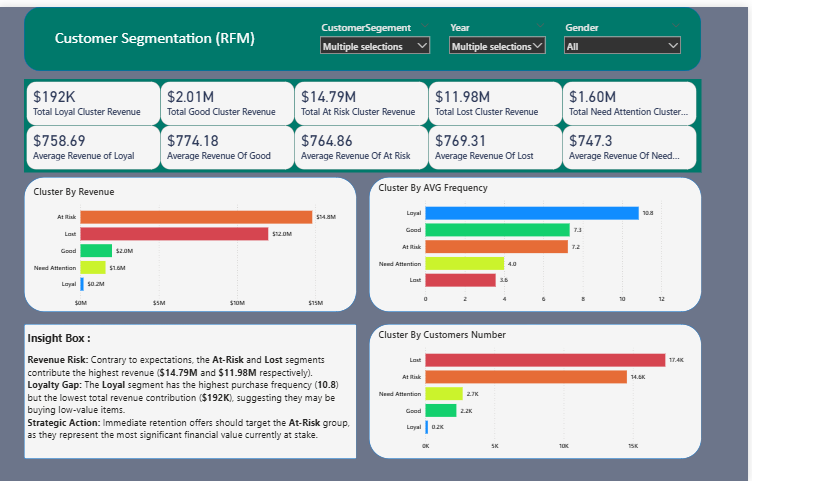

The dashboard page shown, as its layout file describes it:
{"tool":"powerbi","page":{"name":"RFM","canvas":[1500,950],"ordinal":1},"visuals":[{"type":"shape","box":[51.2,0,1354.3,128],"z":0},{"type":"slicer","fields":{"Values":["ecommerce_customer_data_large.Gender"]},"box":[1122,19.7,253.9,88.6],"z":1000},{"type":"slicer","fields":{"Values":["ecommerce_customer_data_large.Year"]},"box":[891.7,19.7,212.6,88.6],"z":2000},{"type":"slicer","fields":{"Values":["RFM.CustomerSegement"]},"box":[633.9,19.7,240.2,82.7],"z":3000},{"type":"textbox","box":[100.7,36.1,427.5,66.5],"z":4000},{"type":"cardVisual","fields":{"Data":["RFM.TotalRevenue_Cluster_Loyal","RFM.TotalRevenue_Cluster_Good","RFM.Totalrevenue_Culster_Atrisk","RFM.TotalRevenue_Cluster_Lost","RFM.TotalRevenue_Cluster_need_attention","RFM.AVGRevenue_Loyal","RFM.AVGRevenue_Good","RFM.AVGRevenue_atrisk","RFM.AVGRevenue_Lost","RFM.AVGRevenue_needattention"]},"box":[51.3,144.4,1354.7,187],"z":5000},{"type":"shape","box":[51.3,340.1,665,269.8],"z":6000},{"type":"clusteredBarChart","title":"Cluster By Revenue","fields":{"Category":["RFM.CustomerSegement"],"Y":["ecommerce_customer_data_large.Total Sales"]},"box":[66.5,355.3,634.6,254.6],"z":7000},{"type":"shape","box":[741,634.6,665,269.8],"z":8000},{"type":"clusteredBarChart","title":"Cluster By Customers Number","fields":{"Y":["ecommerce_customer_data_large.Total customer"],"Category":["RFM.CustomerSegement"]},"box":[756.2,642.2,634.6,254.6],"z":9000},{"type":"shape","box":[741,340.1,665,269.8],"z":10000},{"type":"barChart","title":"Cluster By AVG Frequency","fields":{"Category":["RFM.CustomerSegement"],"Y":["ecommerce_customer_data_large.AVG_Frequency"]},"box":[756.2,347.7,634.6,254.6],"z":11000},{"type":"shape","box":[51.3,634.6,665,269.8],"z":12000},{"type":"textbox","box":[54,642,664,270],"z":13000}]}

Visuals, with their boxes in screenshot pixels (x1, y1, x2, y2):
shape: region(21, 4, 699, 68)
slicer - ecommerce_customer_data_large.Gender: region(557, 14, 684, 58)
slicer - ecommerce_customer_data_large.Year: region(442, 14, 548, 58)
slicer - RFM.CustomerSegement: region(313, 14, 433, 56)
textbox: region(46, 22, 260, 56)
cardVisual - RFM.TotalRevenue_Cluster_Loyal x RFM.TotalRevenue_Cluster_Good: region(21, 77, 699, 170)
shape: region(21, 174, 354, 309)
"Cluster By Revenue" clusteredBarChart: region(29, 182, 347, 309)
shape: region(367, 322, 699, 457)
"Cluster By Customers Number" clusteredBarChart: region(374, 326, 692, 453)
shape: region(367, 174, 699, 309)
"Cluster By AVG Frequency" barChart: region(374, 178, 692, 306)
shape: region(21, 322, 354, 457)
textbox: region(23, 326, 355, 461)
